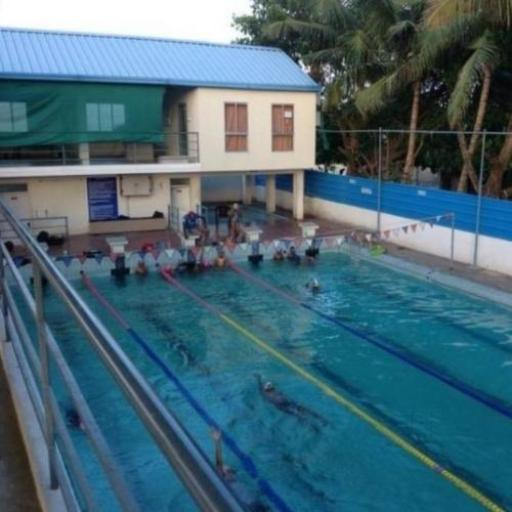swimming: (250, 370, 334, 435), (204, 421, 240, 486)
